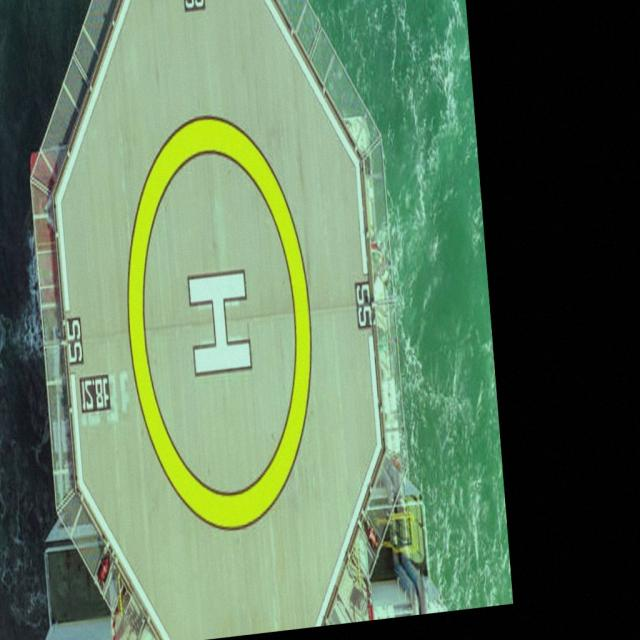helipad: (120, 109, 319, 534)
